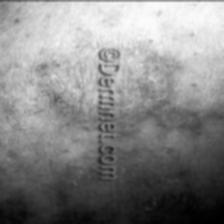Non-Cancerous Skin Condition: (46, 32, 180, 130)
